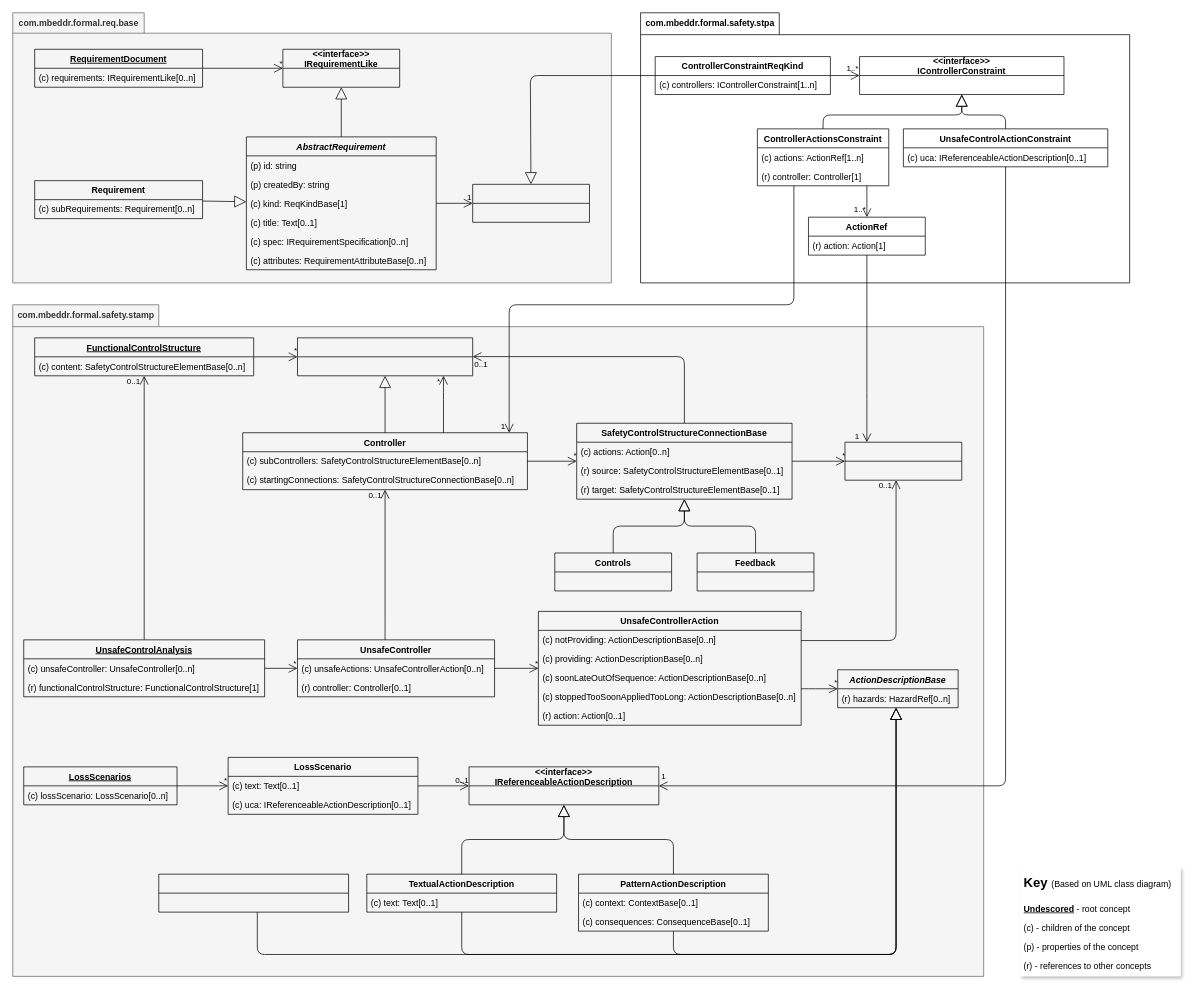
The diagram is 1198 pixels wide and 994 high, and some of its shapes have lost their labels. Each missing label, with the centre of its shape:
Action: [903,461]
NotApplicableAction: [253,892]
ReqKindBase: [530,203]
SafetyControlStructureElementBase: [385,356]
